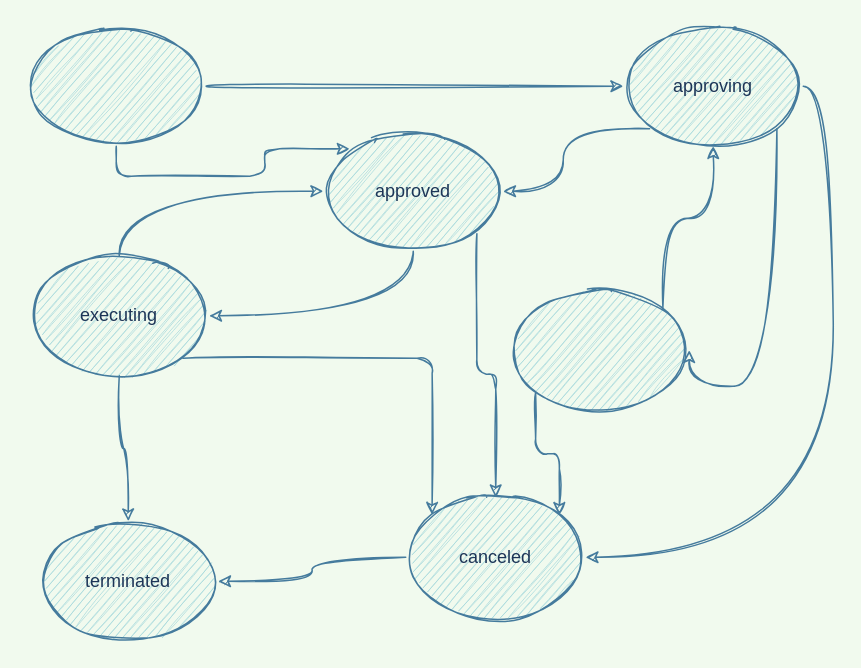
This 861x668 diagram has some shape labels left out. The shapes that lost their labels are listed below. From the top down, each one's box as (x1, y1, x2, y2) in pixels, then its label:
(25, 25, 206, 146): created
(508, 289, 689, 410): refused
